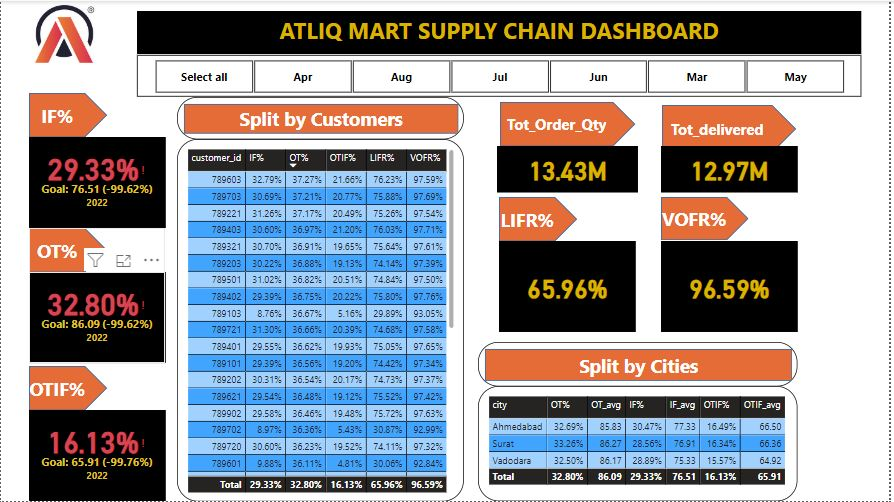

The page's visual inventory and layout, read from the dashboard file:
{"tool":"powerbi","page":{"name":"Page 1","canvas":[1280,720],"ordinal":0},"visuals":[{"type":"group","id":"g1","title":"Group 1","box":[40.3,132.7,196.5,194.9],"z":0},{"type":"shape","box":[40.3,132.7,112.5,63.8],"z":0,"group":"g1"},{"type":"shape","box":[718.7,146.1,194.9,63.8],"z":0,"group":"g8"},{"type":"shape","box":[951.6,149.5,193.2,68.9],"z":0,"group":"g9"},{"type":"tableEx","fields":{"Values":["dim_targets_orders.customer_id","fact_orders_aggregate.IF%","fact_orders_aggregate.OT%","fact_orders_aggregate.OTIF%","fact_order_lines.LIFR%","fact_order_lines.VOFR%"]},"box":[253.6,198.4,413.2,522.2],"z":0,"group":"g4"},{"type":"shape","box":[717.3,282.2,112.5,63.8],"z":0,"group":"g6"},{"type":"shape","box":[950.8,282.2,126,62.2],"z":0,"group":"g7"},{"type":"shape","box":[40.3,327.6,112.5,63.8],"z":0,"group":"g2"},{"type":"shape","box":[687,490.5,460.3,63.8],"z":0,"group":"g5"},{"type":"shape","box":[40.3,525.8,112.5,63.8],"z":0,"group":"g3"},{"type":"shape","box":[253.6,137.7,413.2,60.7],"z":1000,"group":"g4"},{"type":"kpi","fields":{"TrendLine":["fact_order_lines.Year"],"Goal":["dim_targets_orders.IF_avg"],"Indicator":["fact_orders_aggregate.IF%"]},"box":[40.3,196.5,196.5,131],"z":1000,"group":"g1"},{"type":"card","fields":{"Values":["Sum(fact_order_lines.delivery_qty)"]},"box":[950.8,209.2,196.5,67.2],"z":1000,"group":"g9"},{"type":"card","fields":{"Values":["Sum(fact_order_lines.order_qty)"]},"box":[713.9,209.9,203.3,67.2],"z":1000,"group":"g8"},{"type":"group","id":"g2","title":"Group 1","box":[40.3,327.6,196.5,194.9],"z":1000},{"type":"card","fields":{"Values":["fact_order_lines.VOFR%"]},"box":[950.8,345,196.5,131],"z":1000,"group":"g7"},{"type":"card","fields":{"Values":["fact_order_lines.LIFR%"]},"box":[717.3,346,196.5,131],"z":1000,"group":"g6"},{"type":"kpi","fields":{"TrendLine":["fact_order_lines.Year"],"Indicator":["fact_orders_aggregate.OT%"],"Goal":["dim_targets_orders.OT_avg"]},"box":[40.3,391.4,196.5,131],"z":1000,"group":"g2"},{"type":"tableEx","fields":{"Values":["dim_customers.city","fact_orders_aggregate.OT%","dim_targets_orders.OT_avg","fact_orders_aggregate.IF%","dim_targets_orders.IF_avg","fact_orders_aggregate.OTIF%","dim_targets_orders.OTIF_avg"]},"box":[687,554.3,460.3,166.3],"z":1000,"group":"g5"},{"type":"kpi","fields":{"TrendLine":["fact_order_lines.Year"],"Indicator":["fact_orders_aggregate.OTIF%"],"Goal":["dim_targets_orders.OTIF_avg"]},"box":[40.3,589.6,196.5,131],"z":1000,"group":"g3"},{"type":"group","id":"g3","title":"Group 1","box":[40.3,525.8,196.5,194.9],"z":2000},{"type":"group","id":"g4","title":"Group 2","box":[253.6,137.7,413.2,582.9],"z":3000},{"type":"group","id":"g5","title":"Group 3","box":[687,490.5,460.3,230.1],"z":4000},{"type":"image","box":[15.1,0,154.5,94.1],"z":5000},{"type":"textbox","box":[196.5,15.1,1043.1,62.2],"z":6000},{"type":"group","id":"g6","title":"Group 1","box":[717.3,282.2,196.5,194.9],"z":7000},{"type":"group","id":"g7","title":"Group 1","box":[950.8,282.2,196.5,193.2],"z":8000},{"type":"slicer","fields":{"Values":["fact_order_lines.Month"]},"box":[196.5,77.3,1043.1,60.5],"z":9000},{"type":"group","id":"g8","title":"Group 1","box":[713.9,146.1,203.3,131],"z":10000},{"type":"group","id":"g9","title":"Group 1","box":[950.8,149.5,196.5,127.7],"z":11000}]}

Visuals, with their boxes in screenshot pixels (x1, y1, x2, y2), scaled from the page's 1280x720 canvas onto the 894x502 screenshot:
"Group 1" group: l=28, t=93, r=165, b=228
shape: l=28, t=93, r=107, b=137
shape: l=502, t=102, r=638, b=146
shape: l=665, t=104, r=800, b=152
tableEx - dim_targets_orders.customer_id x fact_orders_aggregate.IF%: l=177, t=138, r=466, b=501
shape: l=501, t=197, r=580, b=241
shape: l=664, t=197, r=752, b=240
shape: l=28, t=228, r=107, b=273
shape: l=480, t=342, r=801, b=386
shape: l=28, t=367, r=107, b=411
shape: l=177, t=96, r=466, b=138
kpi - fact_order_lines.Year x dim_targets_orders.IF_avg: l=28, t=137, r=165, b=228
card - Sum(fact_order_lines.delivery_qty): l=664, t=146, r=801, b=193
card - Sum(fact_order_lines.order_qty): l=499, t=146, r=641, b=193
"Group 1" group: l=28, t=228, r=165, b=364
card - fact_order_lines.VOFR%: l=664, t=241, r=801, b=332
card - fact_order_lines.LIFR%: l=501, t=241, r=638, b=333
kpi - fact_order_lines.Year x fact_orders_aggregate.OT%: l=28, t=273, r=165, b=364
tableEx - dim_customers.city x fact_orders_aggregate.OT%: l=480, t=386, r=801, b=501
kpi - fact_order_lines.Year x fact_orders_aggregate.OTIF%: l=28, t=411, r=165, b=501
"Group 1" group: l=28, t=367, r=165, b=501
"Group 2" group: l=177, t=96, r=466, b=501
"Group 3" group: l=480, t=342, r=801, b=501
image: l=11, t=0, r=118, b=66
textbox: l=137, t=11, r=866, b=54
"Group 1" group: l=501, t=197, r=638, b=333
"Group 1" group: l=664, t=197, r=801, b=331
slicer - fact_order_lines.Month: l=137, t=54, r=866, b=96
"Group 1" group: l=499, t=102, r=641, b=193
"Group 1" group: l=664, t=104, r=801, b=193
